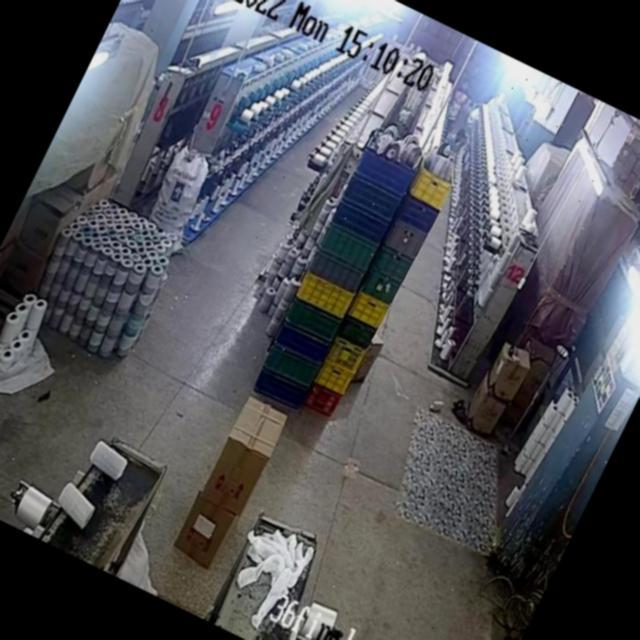person: (442, 80, 472, 128), (451, 130, 472, 162), (447, 128, 464, 148)
